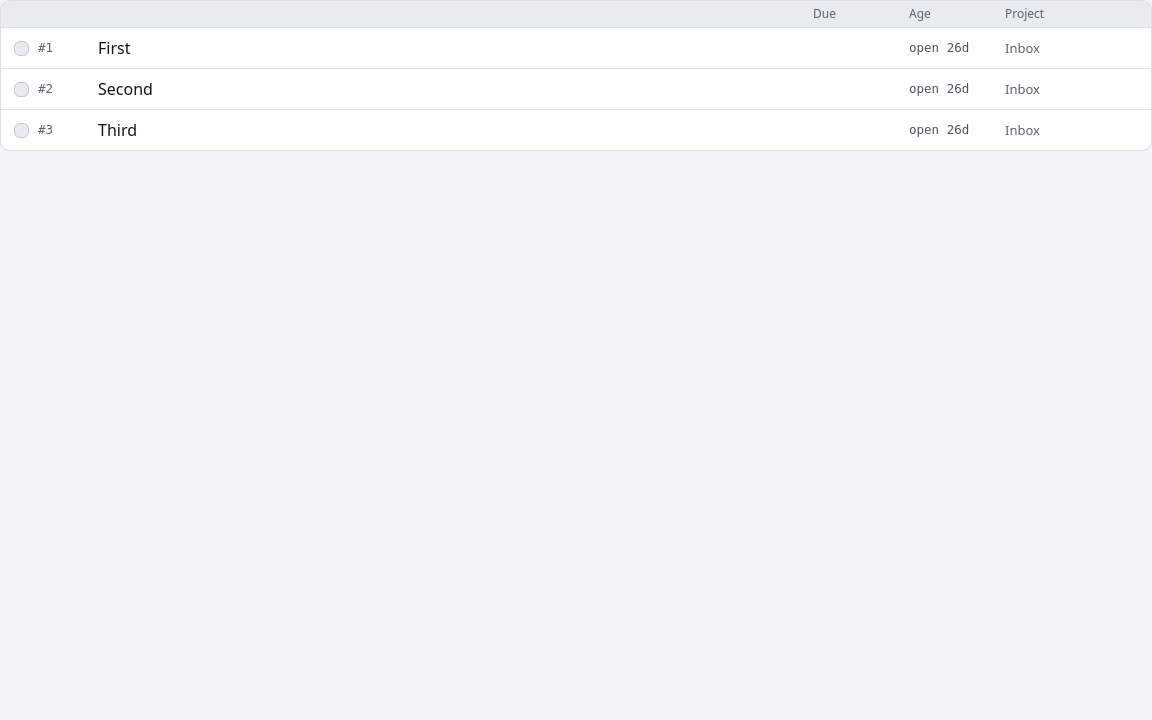
Test: StripList › marks a todo done from the checkbox and undoes it from the toast
Step 1. Click the checkbox named "Mark #2 done" → (21, 89), box left=14, top=82, right=28, bottom=96
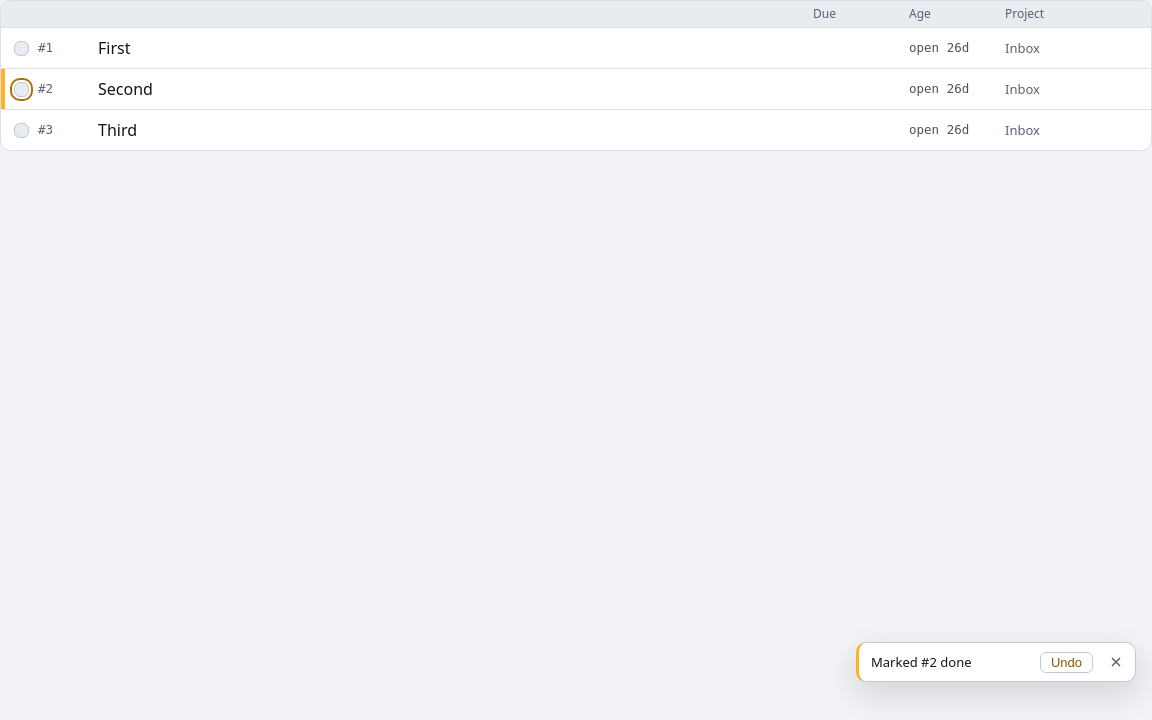
Expected: the text "Marked #2 done" is shown, left=871, top=653, right=972, bottom=671
Step 2. Click the button "Undo" → (1066, 662), box left=1040, top=652, right=1093, bottom=672
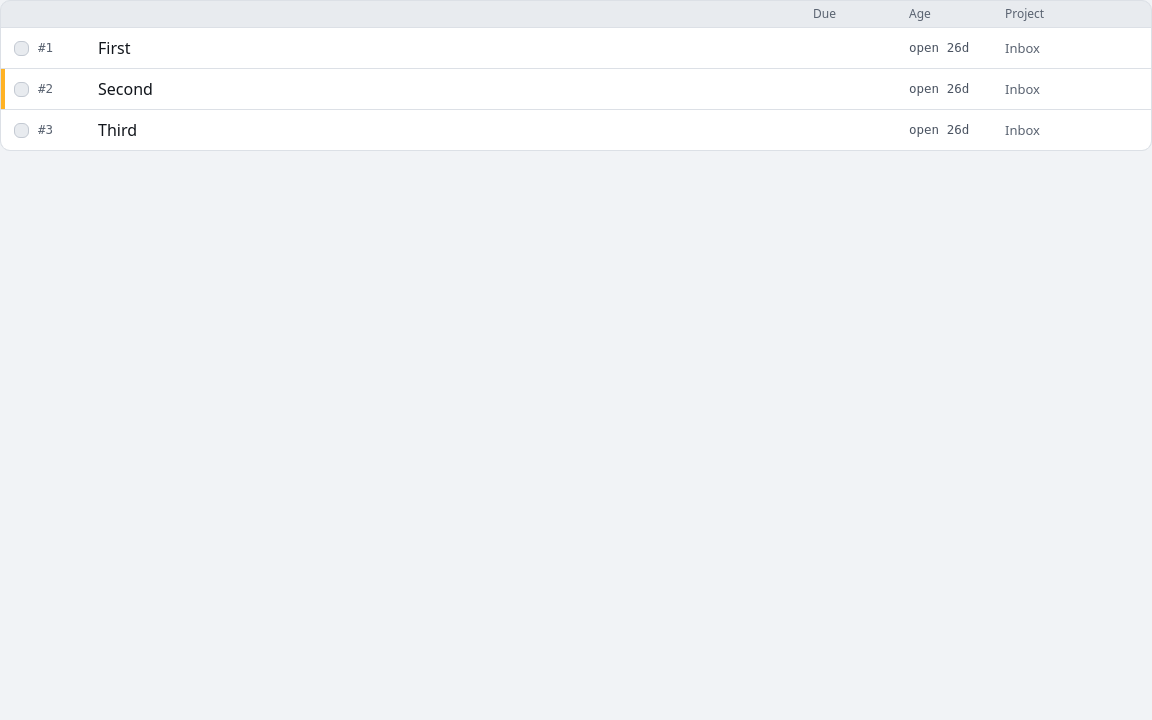
Expected: the text "Marked #2 done" is gone
